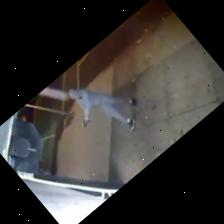person: (69, 89, 137, 129)
